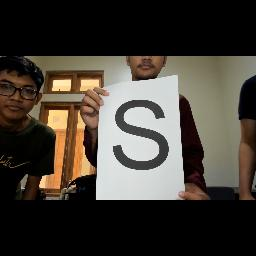s: (104, 93, 180, 177)
